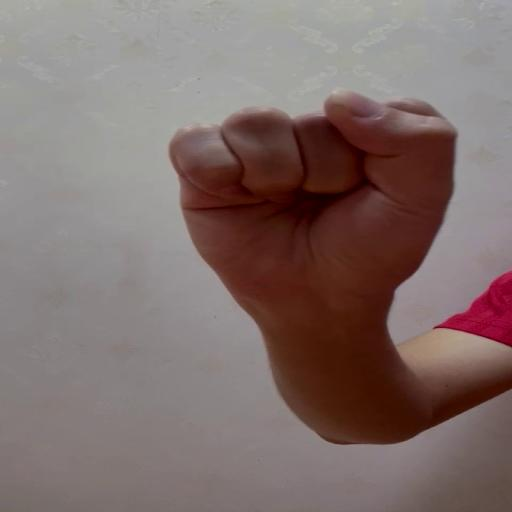fist: (165, 89, 457, 304)
